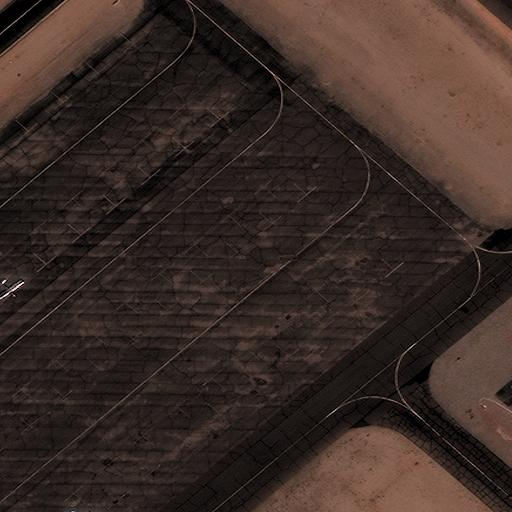Small Civil Transport: (0, 280, 25, 301)
